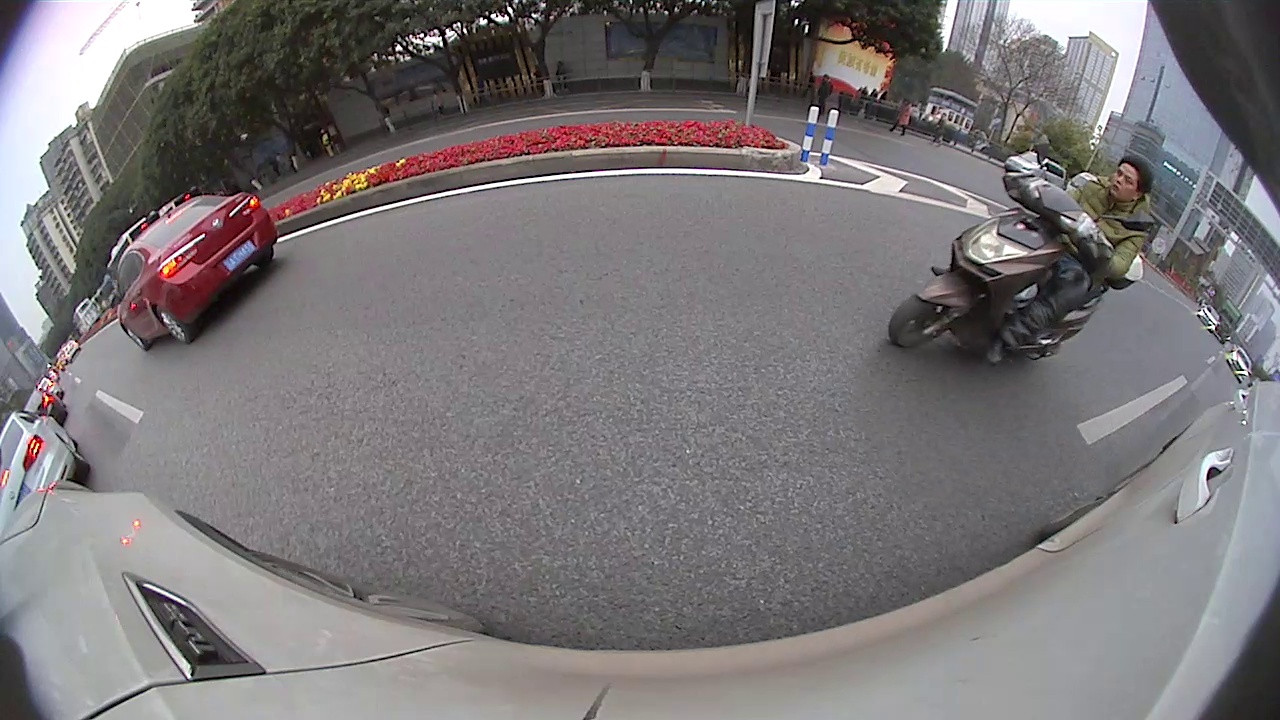car: (113, 188, 281, 352), (0, 405, 88, 514), (1006, 146, 1065, 182), (19, 384, 69, 423)
front: (891, 295, 955, 349)
person: (897, 97, 910, 136), (819, 75, 830, 113)
rear: (157, 307, 191, 344)
rider: (882, 147, 1160, 368)
